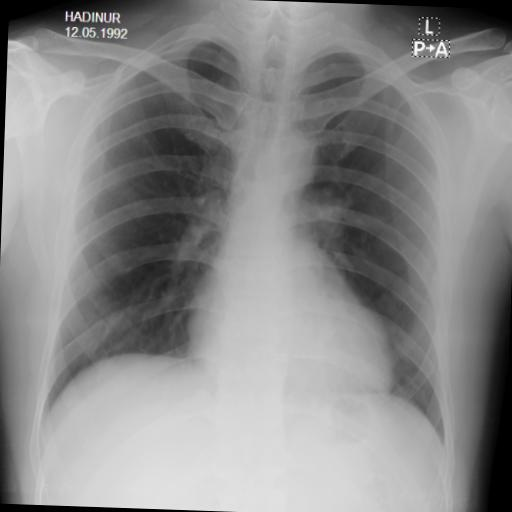kardiomegali: (32, 13, 474, 470)
